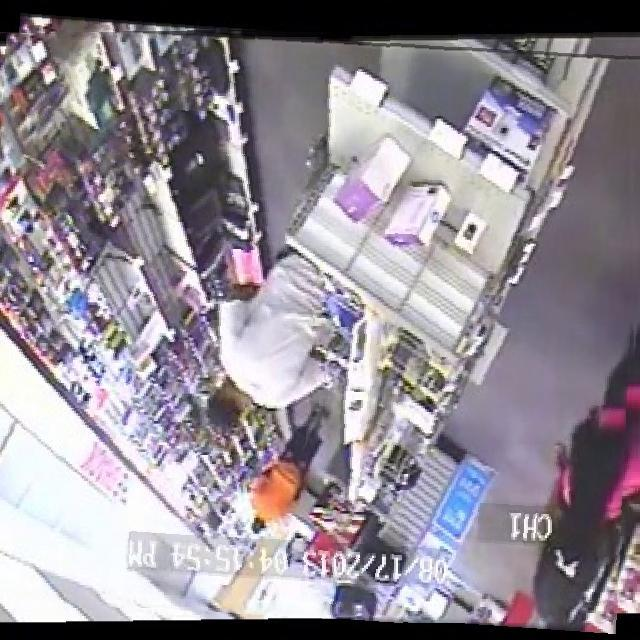Normal: (0, 24, 640, 623)
